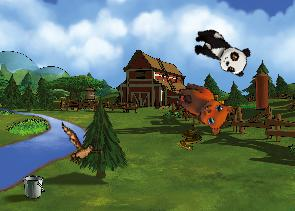bear: (168, 79, 236, 137)
eagle: (51, 122, 106, 170)
panda: (187, 24, 254, 79)
